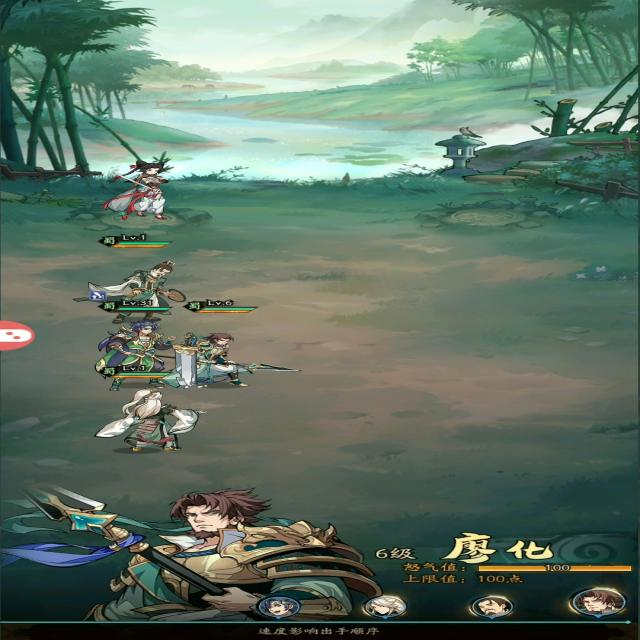hint-guide: (243, 624, 393, 637)
